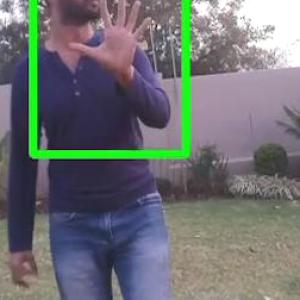follow_hand: (64, 0, 157, 76)
